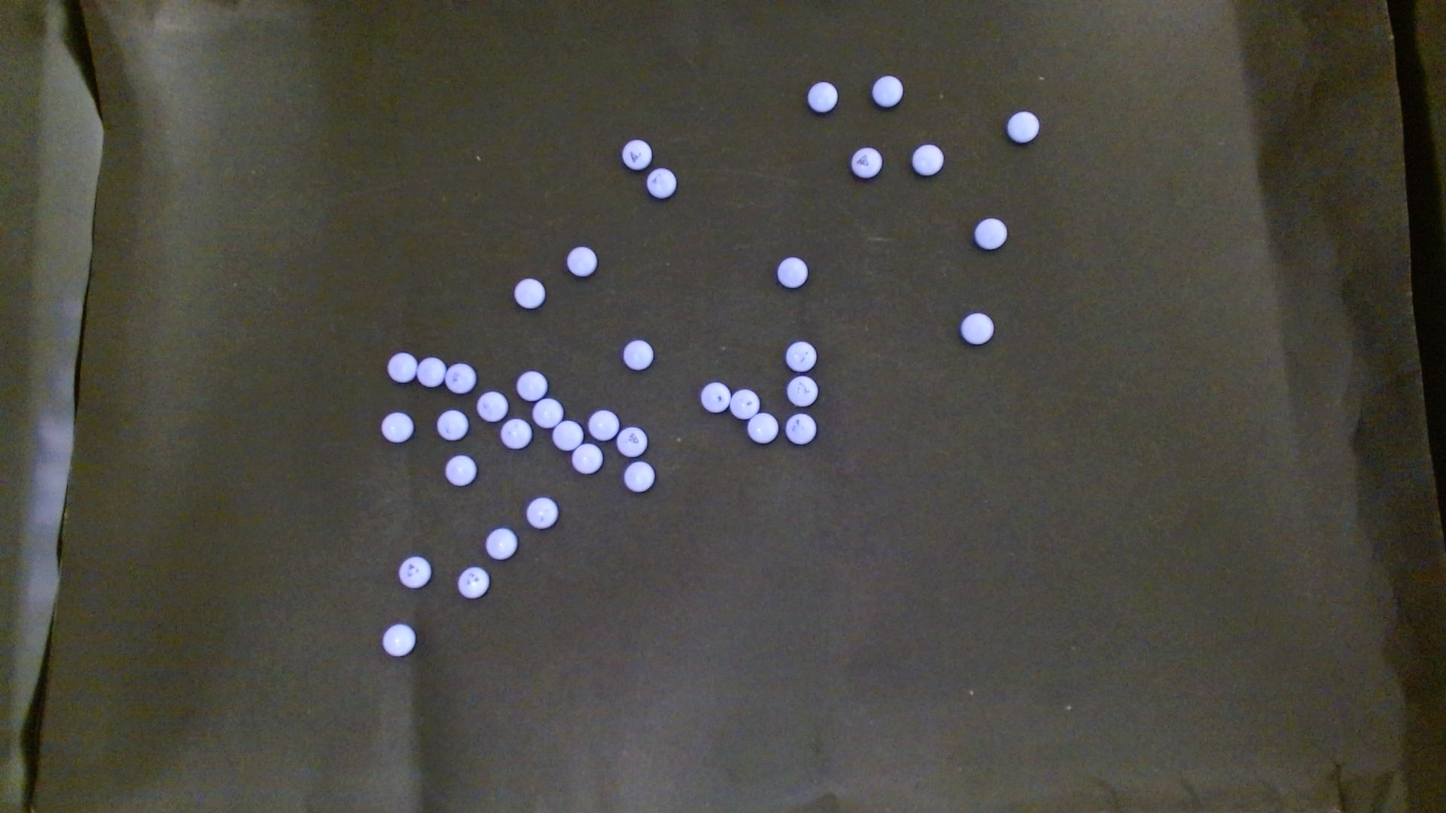Circle: (959, 312, 993, 346), (398, 555, 431, 589), (1005, 110, 1039, 143), (382, 623, 415, 656), (974, 218, 1007, 250), (526, 497, 558, 529), (458, 566, 490, 598), (911, 143, 943, 175), (381, 411, 413, 443), (871, 75, 903, 107), (486, 527, 517, 560), (616, 426, 647, 458), (851, 147, 883, 178), (445, 454, 476, 486), (514, 277, 545, 309), (785, 340, 816, 371), (437, 409, 468, 440), (477, 391, 508, 422), (516, 370, 547, 401), (776, 257, 807, 288), (700, 381, 730, 413), (786, 376, 817, 406), (500, 419, 531, 449), (445, 363, 475, 394), (532, 398, 562, 429), (624, 461, 654, 492), (553, 420, 583, 451), (623, 339, 653, 370), (807, 80, 837, 111), (387, 352, 417, 383), (748, 413, 778, 443), (621, 139, 651, 169), (646, 168, 676, 198), (572, 443, 602, 473), (588, 410, 618, 440), (731, 388, 760, 419), (786, 413, 815, 444), (567, 246, 596, 277), (416, 356, 445, 387)
